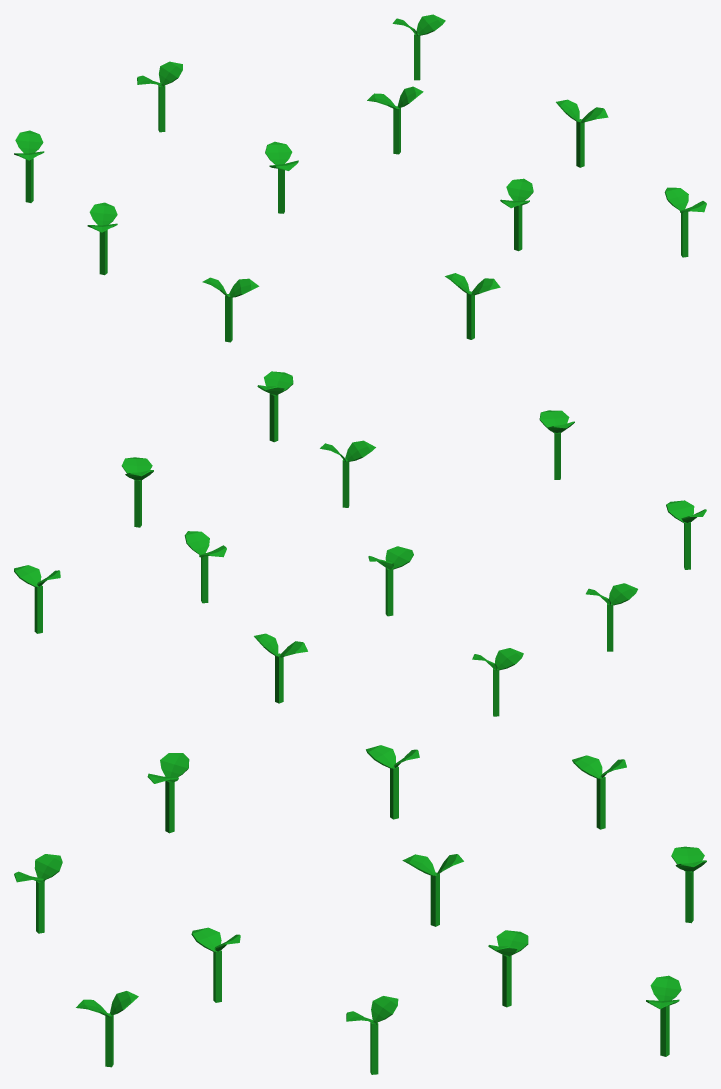
The model's file is Cabbage2.fbx.
3 views of the same model, one above another, from view 1: azimuth 30°, elevation 25°; view 2: azimuth 150°, elevation 25°; view 3: azimuth 270°, elevation 25° (orthographic). The views are drawn at different scales.
Parts seen in each view (by area): view 1: 2; view 2: 2; view 3: 2.
Boxes of the visible parts, x1,y1,x2,y2 form: 2: (14, 14, 706, 342); 2: (14, 371, 706, 716); 2: (14, 745, 706, 1074).
Size of the model in its own units: 75.85 by 8.8 by 80.48.
